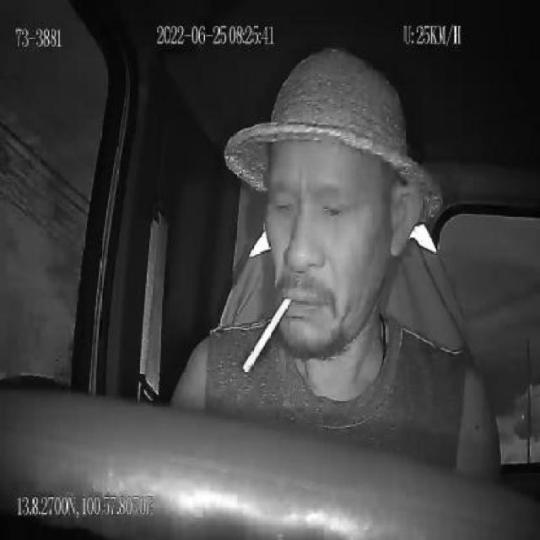smoking: (243, 295, 290, 380)
